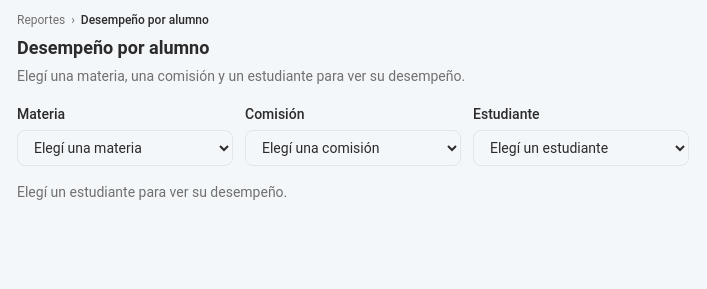
it: DesempenoPorAlumno › estudiante sin evaluaciones finalizadas: muestra el estado vacío
Check: the text "Elegí un estudiante para ver su desempeño." is shown, box [17,184,287,200]
Select "Ingeniería de Software" in the dropdown labelled "Materia" at (125, 148), box [17,130,233,166]
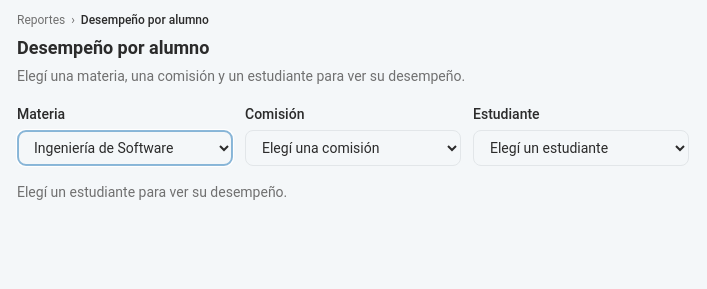
Select "Lunes 18-20hs" in the dropdown labelled "Comisión" at (353, 148), box [245,130,461,166]
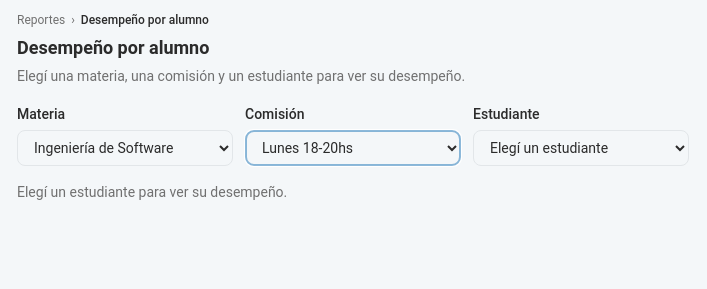
Select "Juan Gómez" in the dropdown labelled "Estudiante" at (581, 148), box [473,130,689,166]
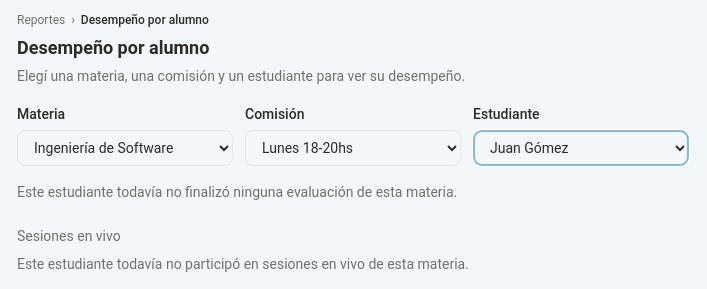
Check: the text "Este estudiante todavía no finalizó ninguna evaluación de esta materia." is shown, box [17,184,457,200]
